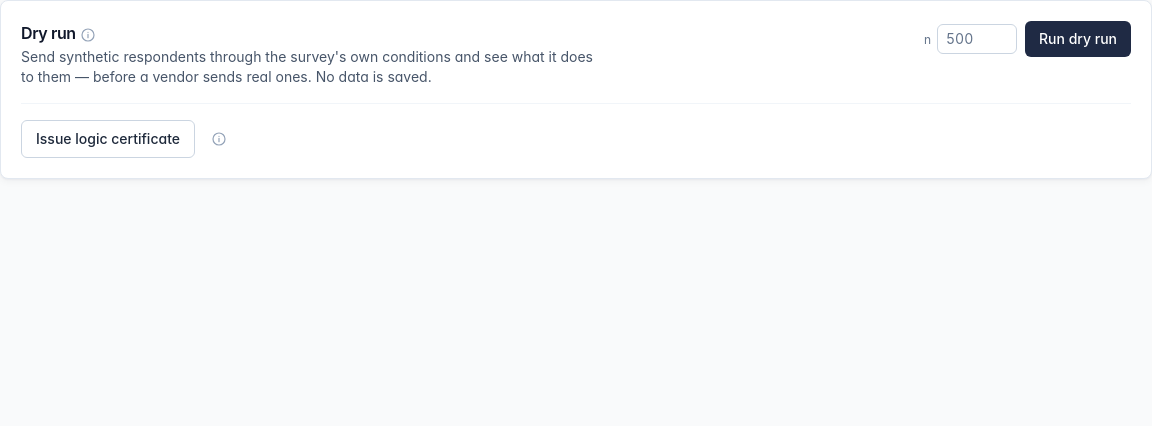
Test: DryRunPanel solver line › says every question is reachable
The image size is (1152, 426).
Click the button "Run dry run": (1078, 39) top-left (1025, 21), bottom-right (1131, 57)
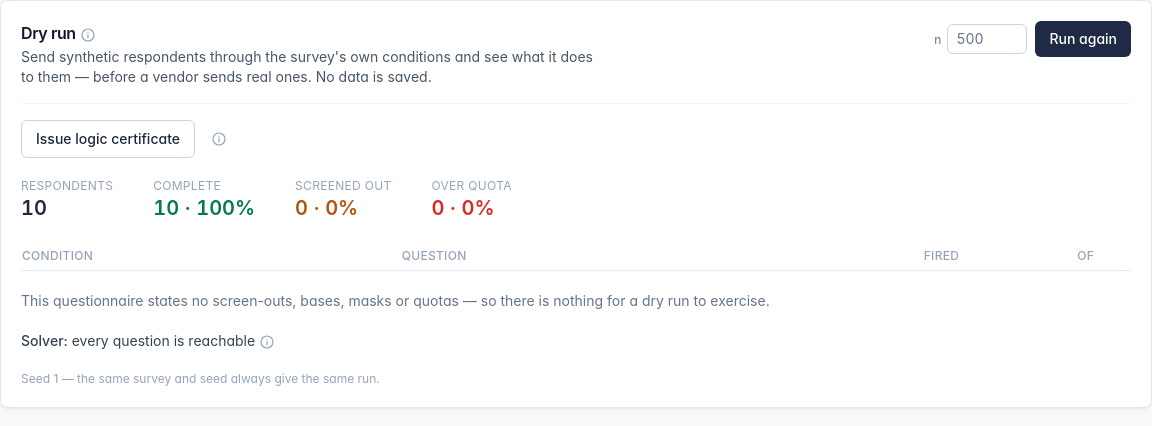
expect the text "Solver: every question is reachable" is shown: met, box top-left (21, 332), bottom-right (275, 350)
